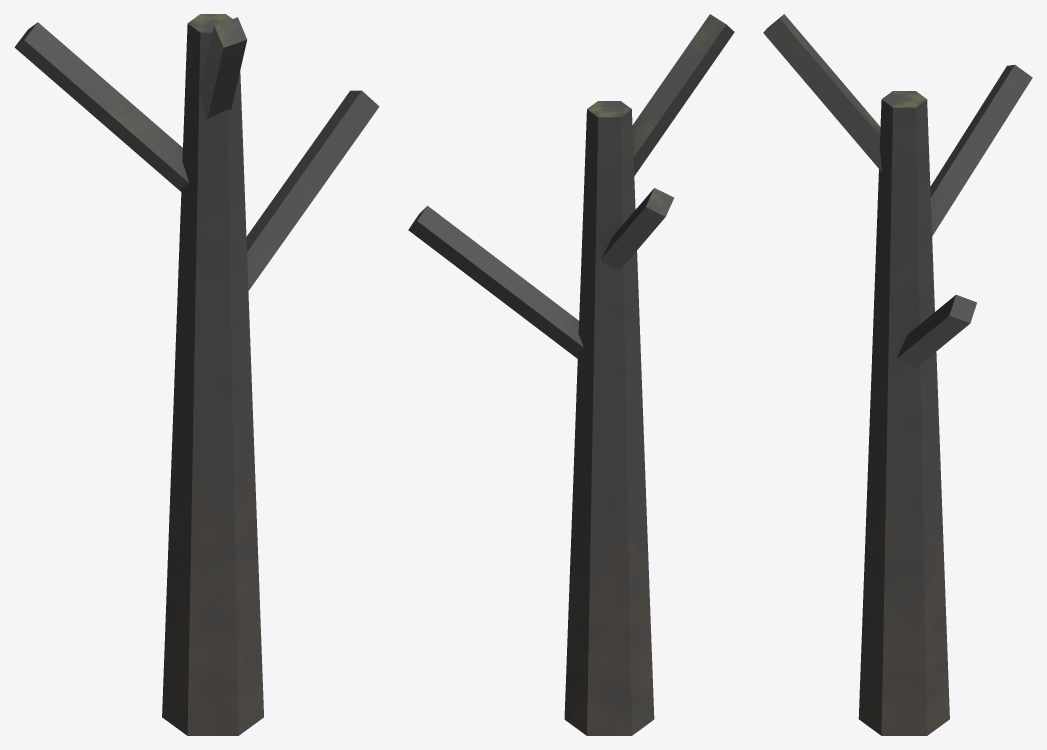
The model's file is arvore_morta.glb.
3 renders of one model, left to right at view 1: azimuth 30°, elevation 25°; view 2: azimuth 150°, elevation 25°; view 3: azimuth 270°, elevation 25°, orthographic. The views are drawn at different scales.
Parts seen in each view (by area): view 1: arvore_morta; view 2: arvore_morta; view 3: arvore_morta.
Boxes of the visible parts, bbox=[...] form: arvore_morta: bbox=[14, 14, 379, 735]; arvore_morta: bbox=[408, 14, 734, 735]; arvore_morta: bbox=[763, 14, 1032, 735].
Size of the model in its own units: 0.5846 by 1.32 by 0.4729.
1 material, 1 textured.
